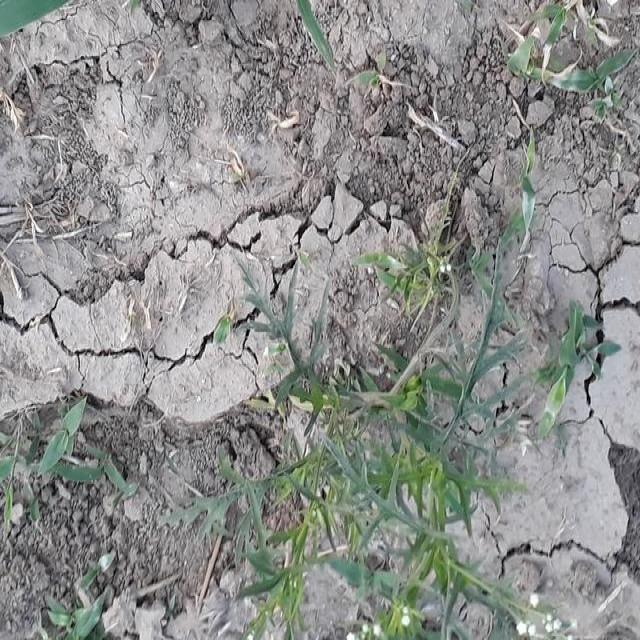weed: (234, 346, 542, 640)
